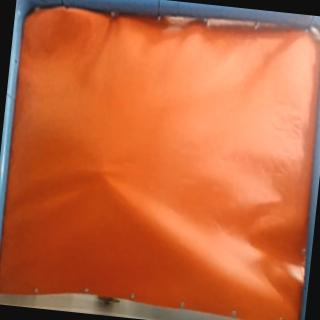Hit-hRxx: (90, 162, 111, 180)
